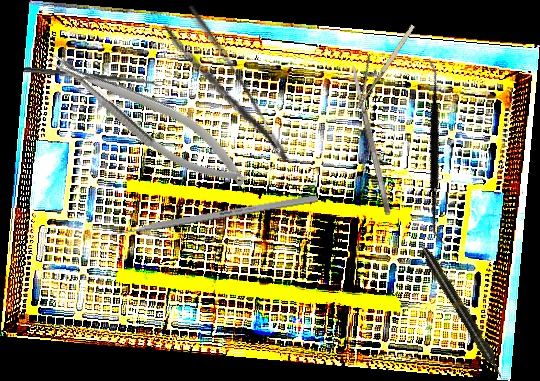Dressing Forceps: (160, 2, 294, 181)
Handpiece: (418, 245, 507, 381)
Needle Holder: (41, 32, 257, 204), (338, 14, 418, 112)
Pusher: (91, 194, 318, 242)
Spatula Surgical: (352, 57, 520, 246), (349, 64, 393, 216)
Surgical Spoon: (23, 66, 163, 88)
